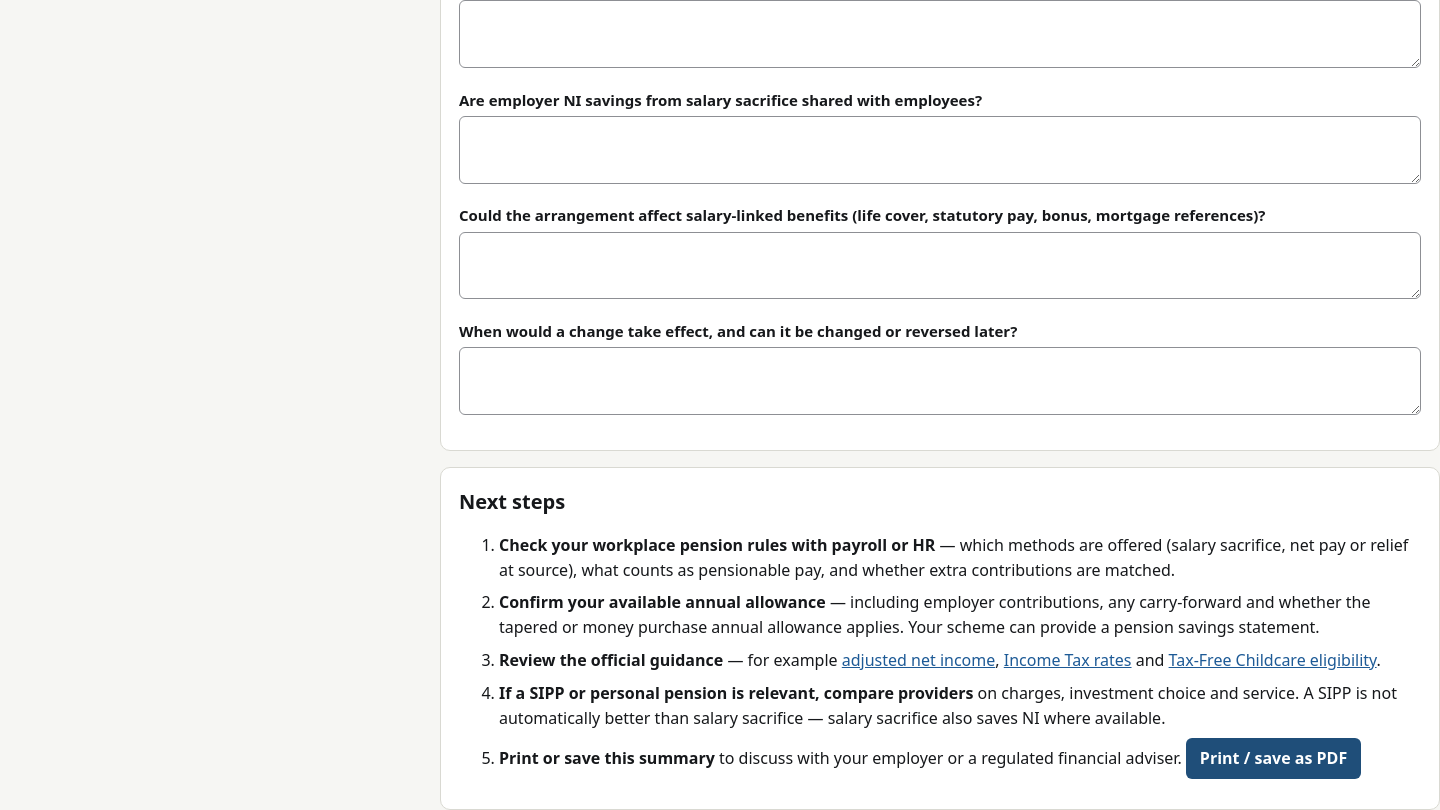
it: calculator UI › print button calls window.print, and reports failure accessibly
(page scrolled)
Click the button "Print / save as PDF" at (1274, 759), box top-left (1186, 738), bottom-right (1361, 779)
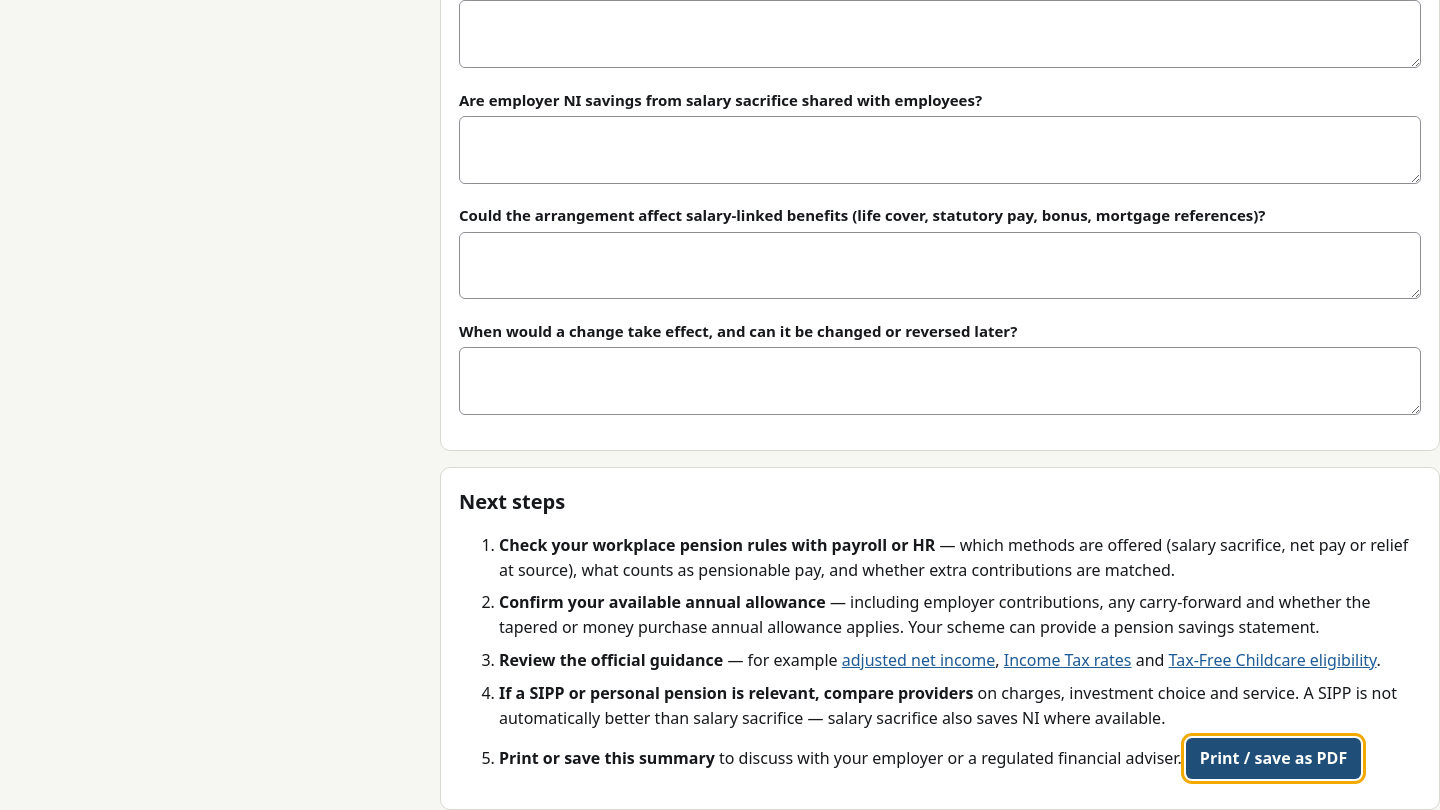
Click the button "Print / save as PDF" at (1274, 759), box top-left (1186, 738), bottom-right (1361, 779)
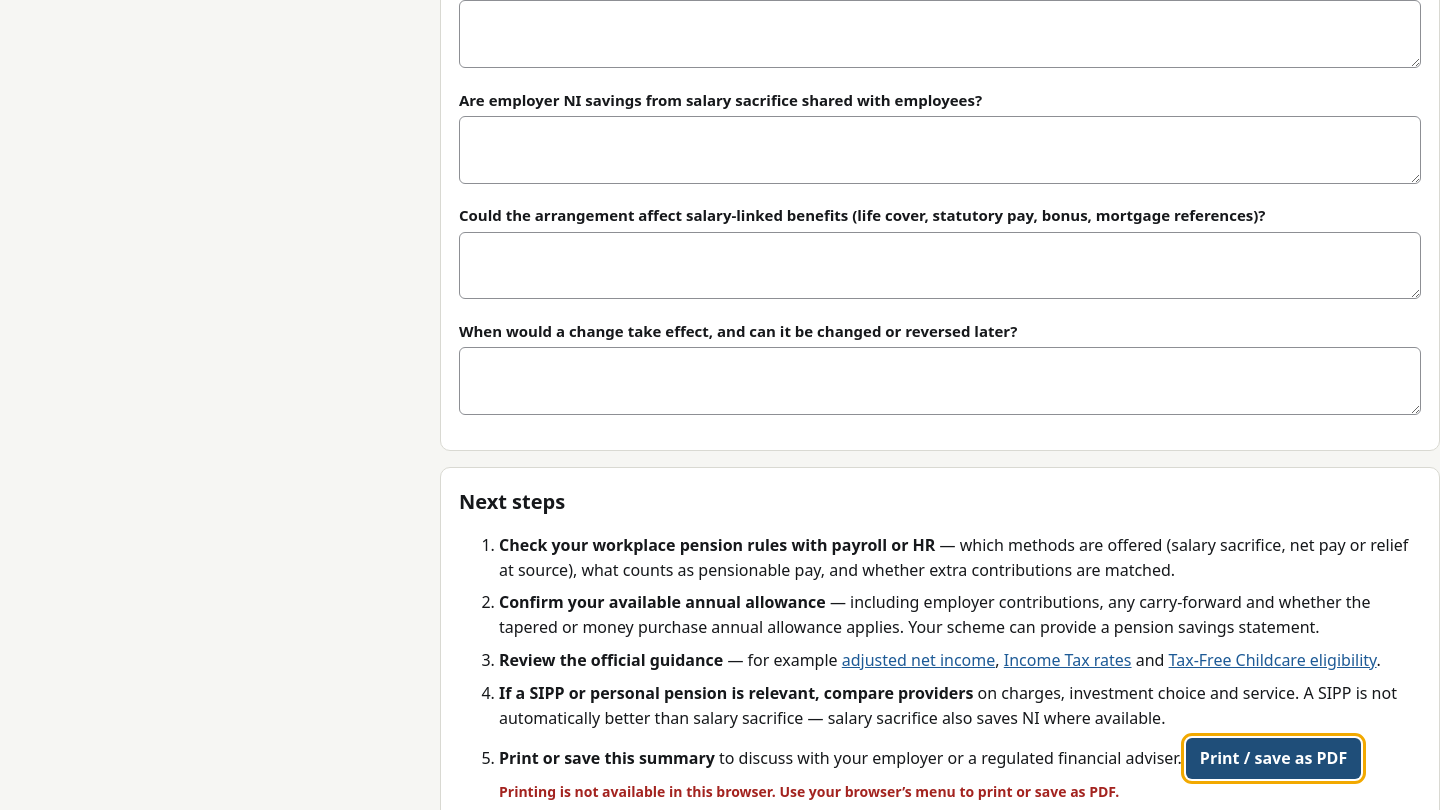
Result: the text "Printing is not available" is shown at top-left (499, 782), bottom-right (1119, 801)
